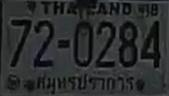0: (73, 20, 92, 66)
2: (33, 20, 53, 66), (95, 20, 115, 66)
4: (140, 20, 160, 67)
7: (10, 18, 31, 66)
8: (118, 20, 137, 66)
SPK: (33, 70, 136, 94)
